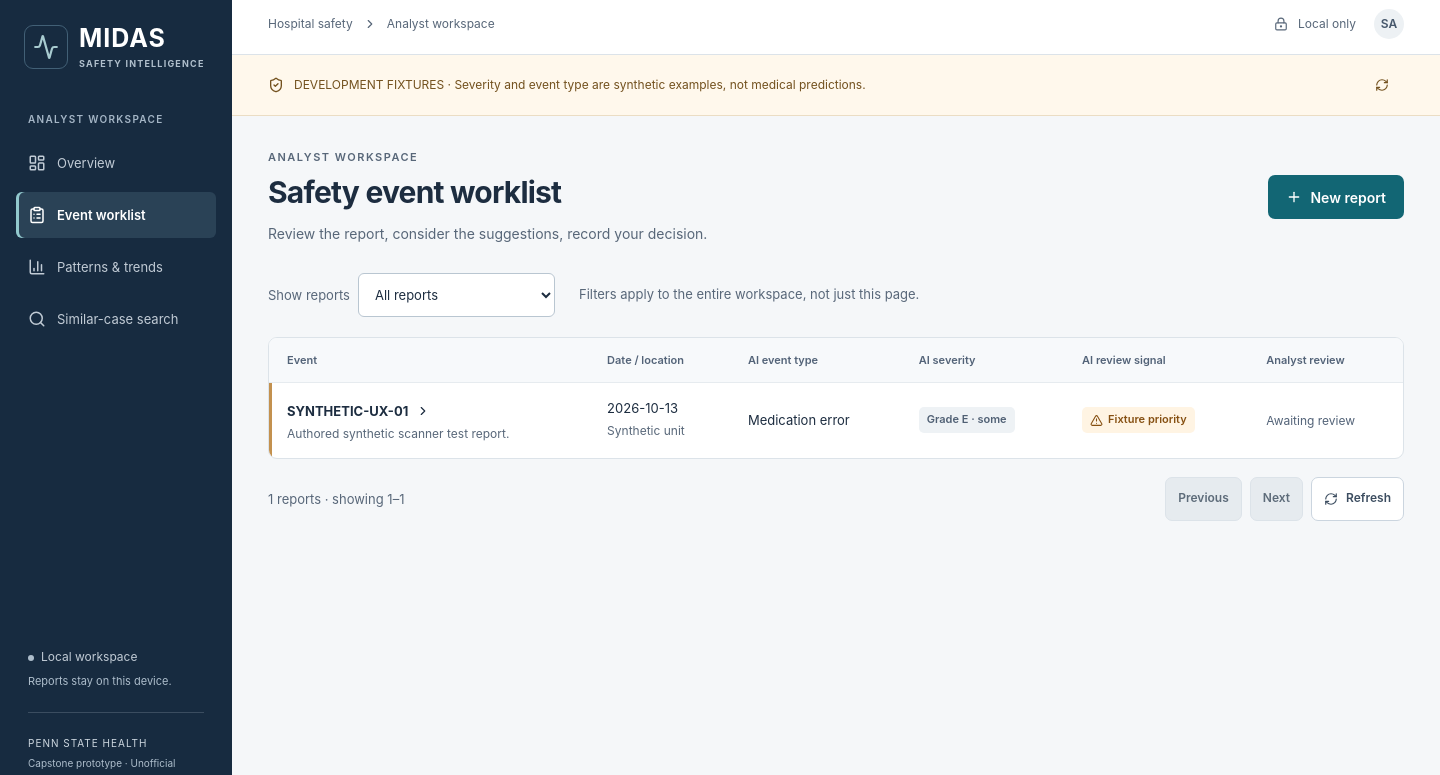
Test: analyst UX regression checks › blocks duplicate report saves while in flight and opens the saved report
This screenshot has width=1440, height=775.
Click the button "New report" at [1336, 197], box [1268,175,1404,219]
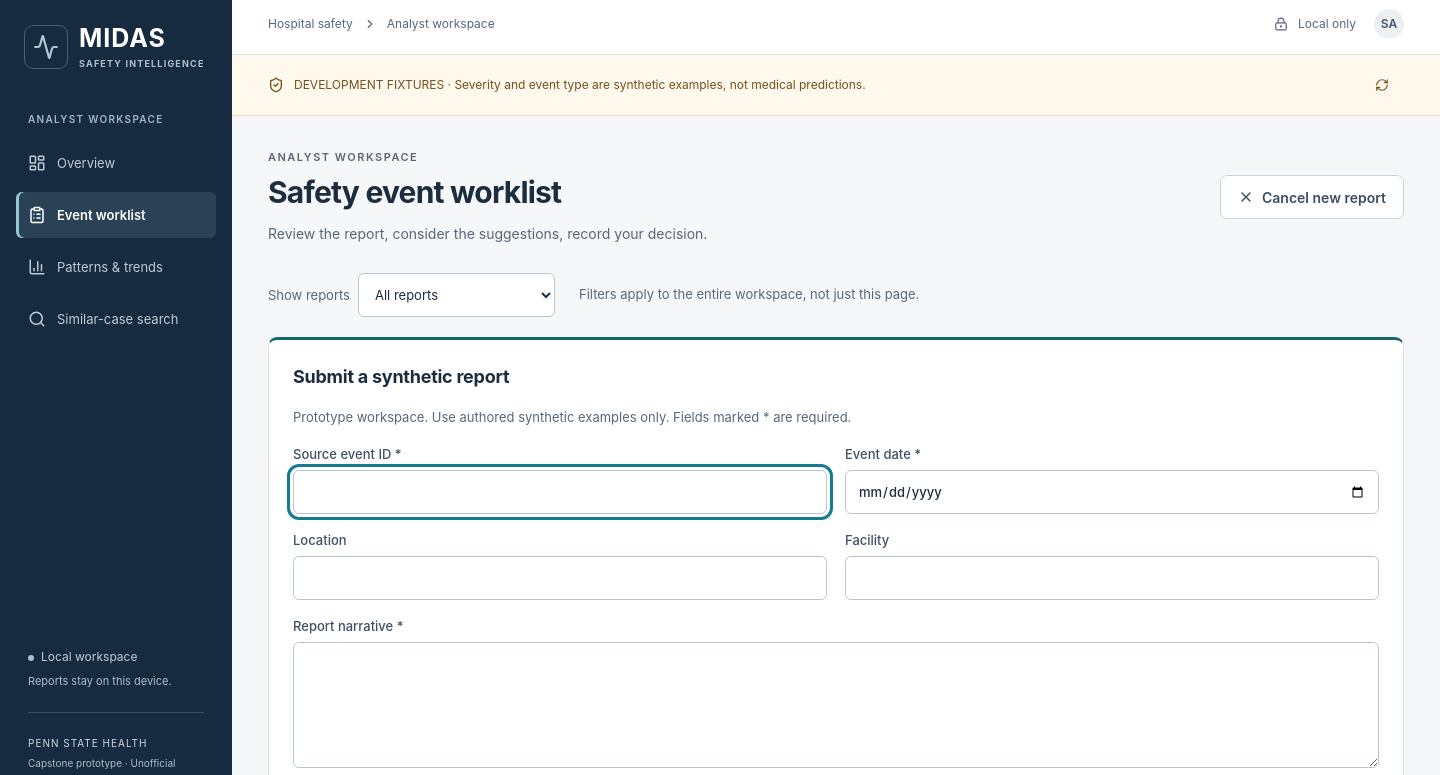
Type "SYNTHETIC-UX-01" into the field labelled "Source event ID *" at [560, 492], box [293,470,827,514]
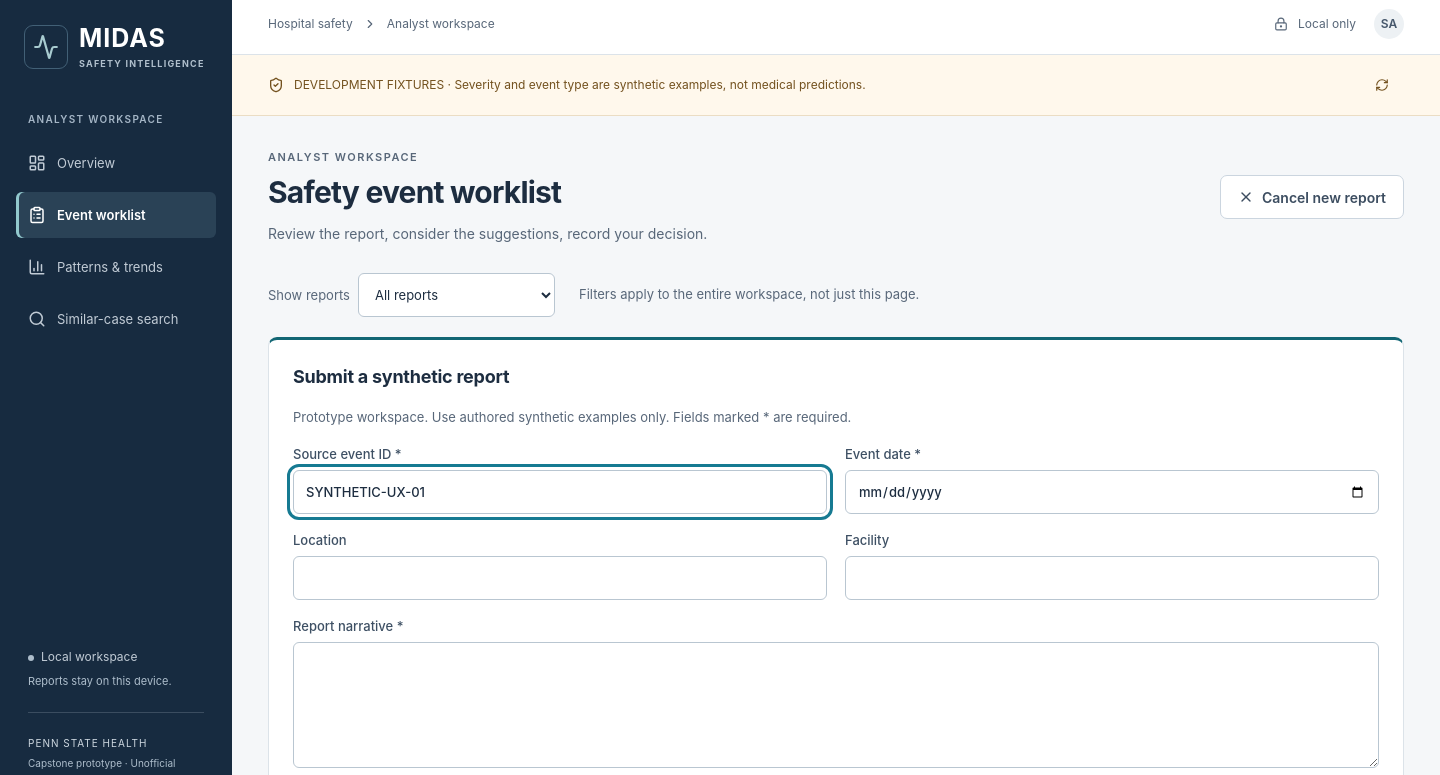
Type "2026-10-13" into the date field labelled "Event date *" at [1112, 492], box [845,470,1379,514]
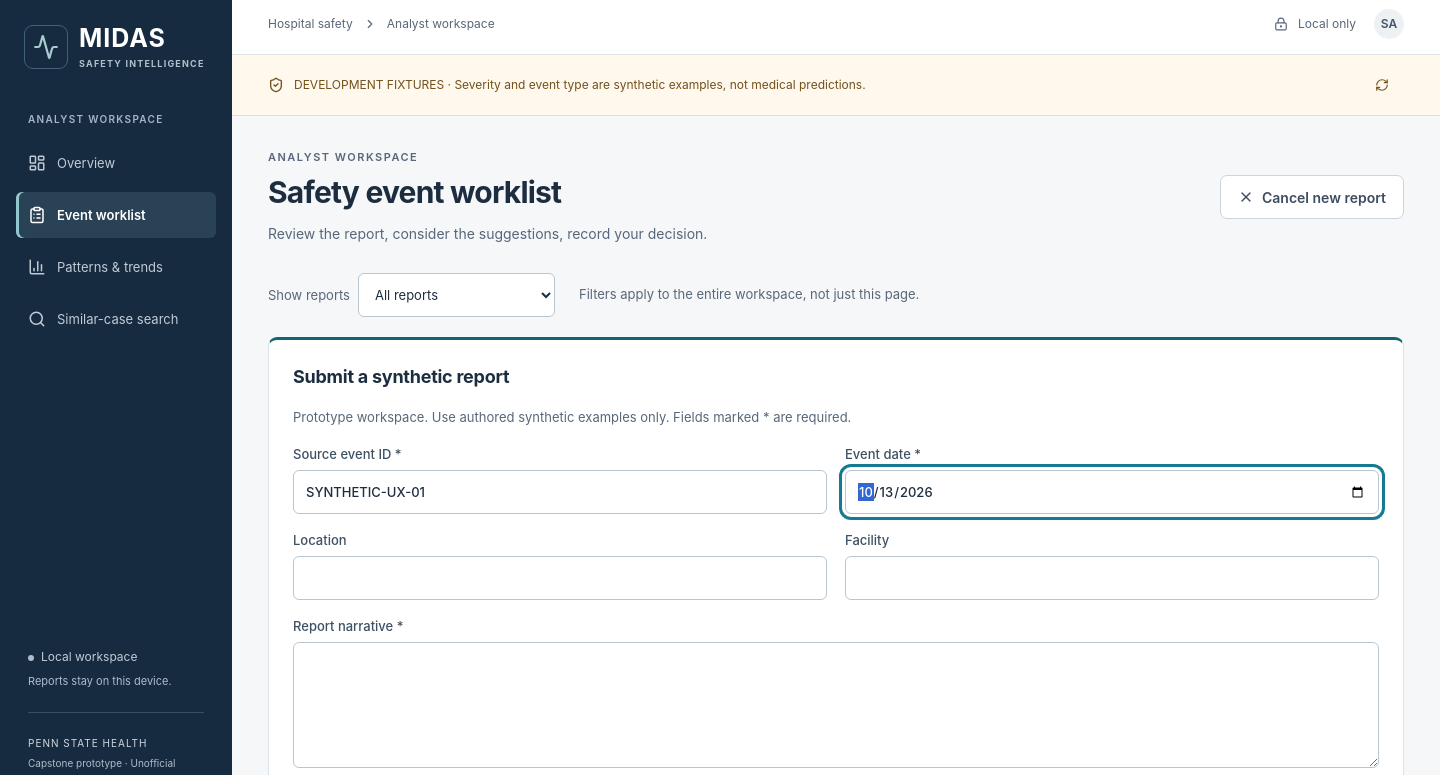
Type "Authored synthetic scanner test report." into the text box labelled "Report narrative *" at [836, 705], box [293,642,1379,768]
(page scrolled)
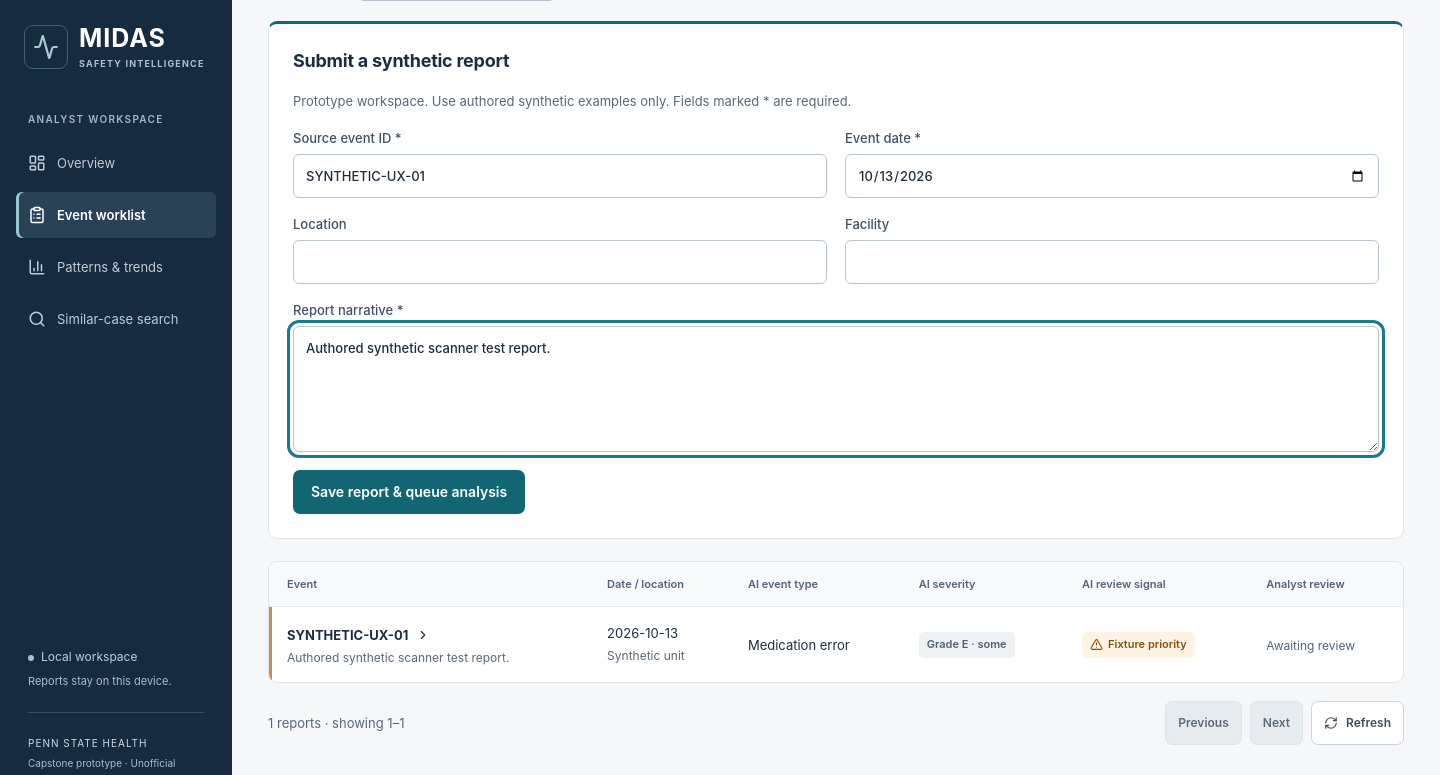
Click the button "Save report & queue analysis" at [409, 492], box [293,470,525,514]
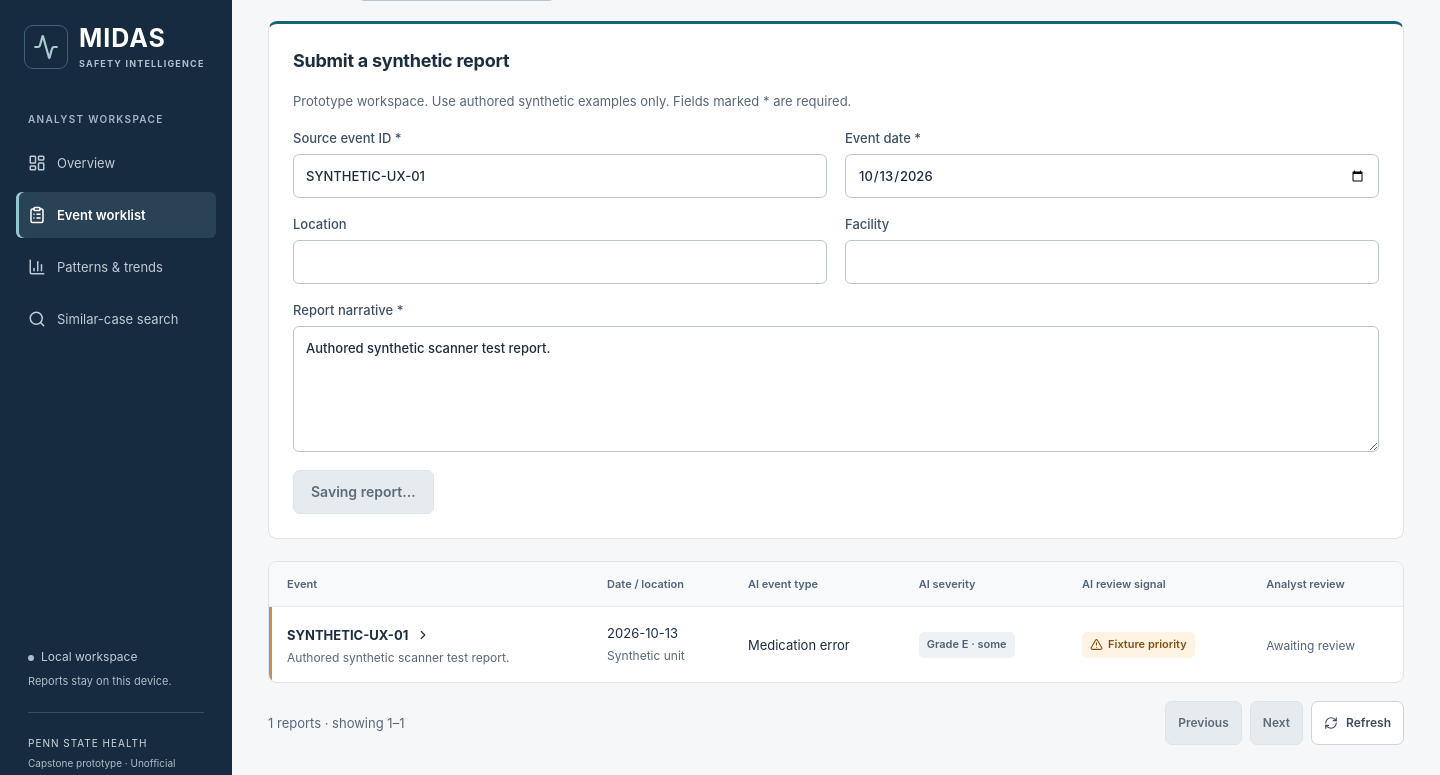
Now the button "Saving report…" is disabled
Click the button "Saving report…" at [363, 492], box [293,470,434,514]
(page scrolled)
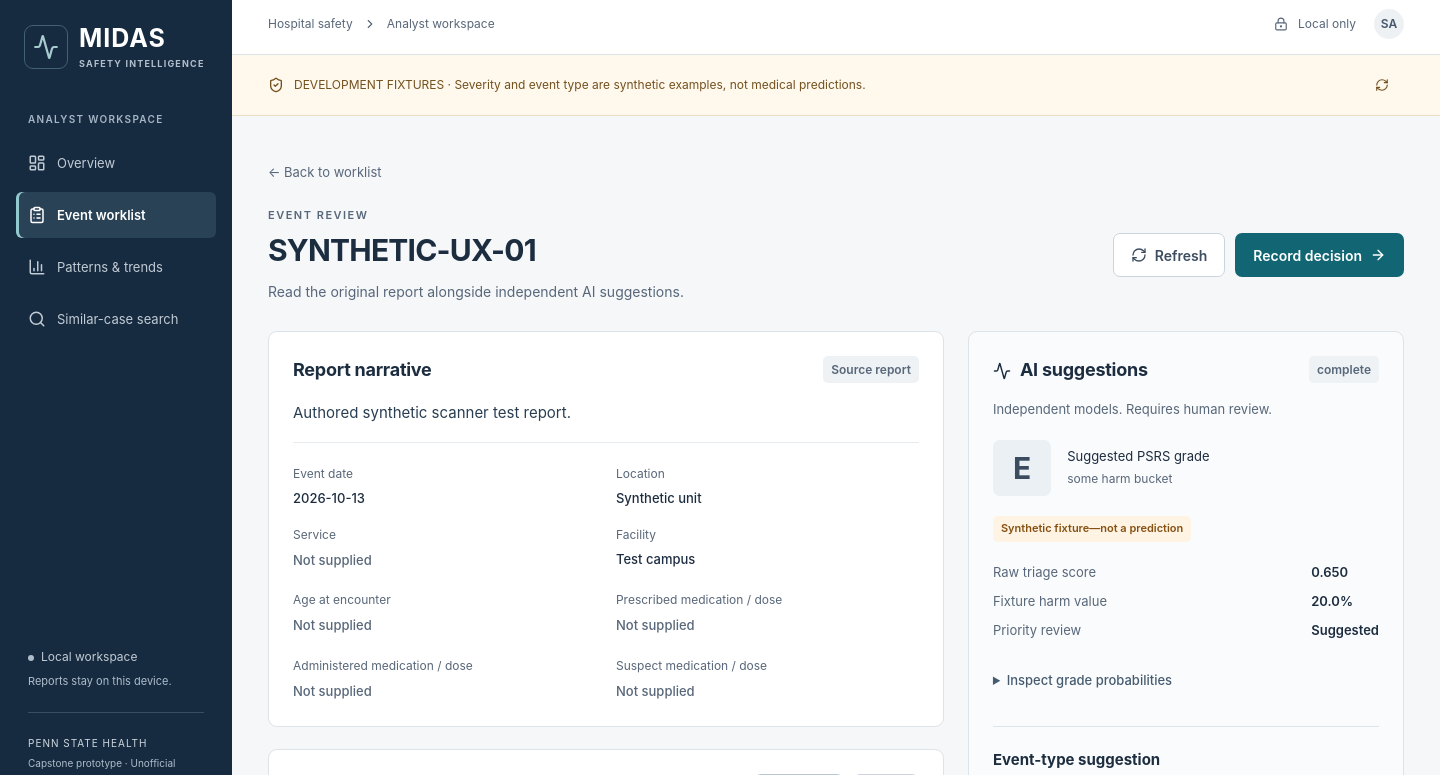
Now the heading "SYNTHETIC-UX-01" is shown, box [268,232,536,268]
